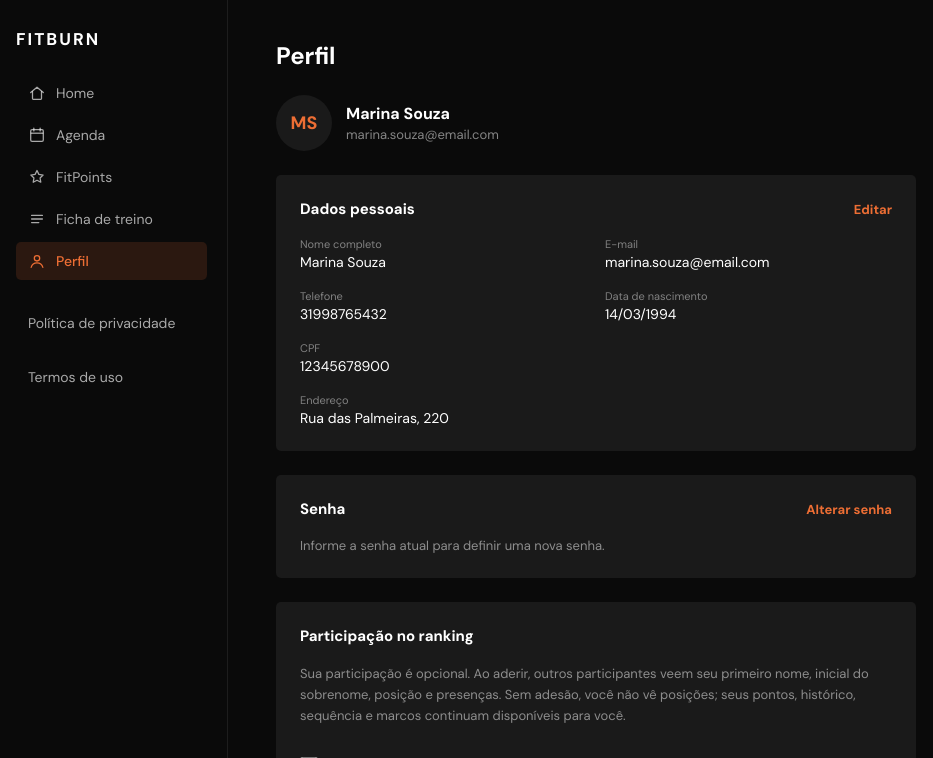
Test case: Perfil / Minha conta › cliente › cancelar descarta as alterações
Click the button "Editar" at [873, 209], box 854,200 -> 892,218
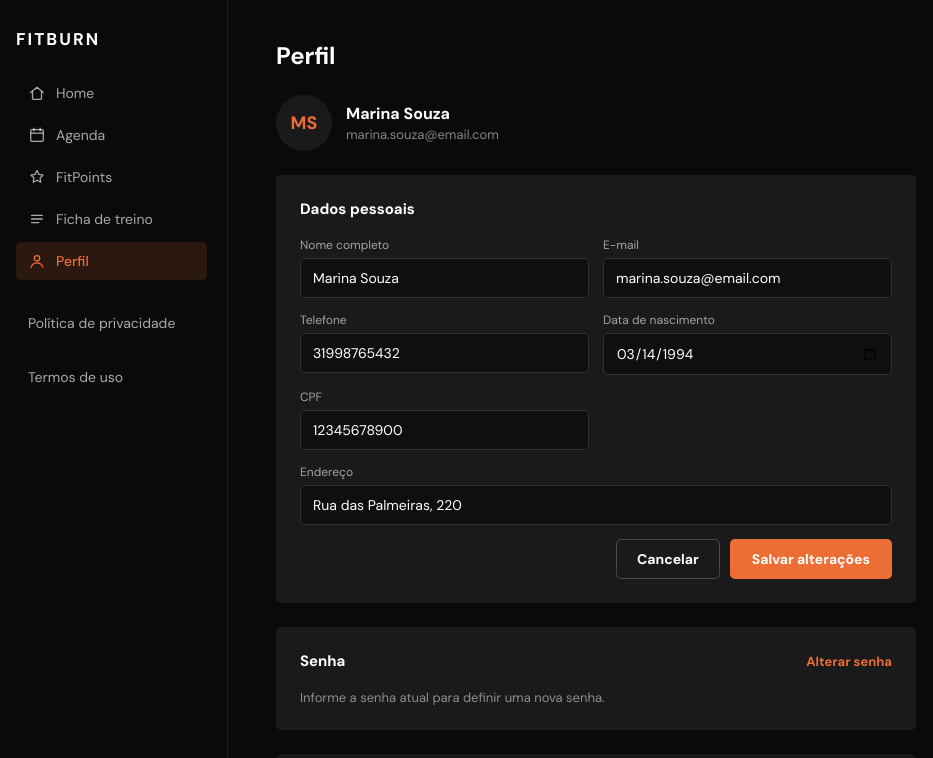
Replace the text in the field labelled "Nome completo" with "Outro Nome" at [444, 278], box 300,258 -> 589,298
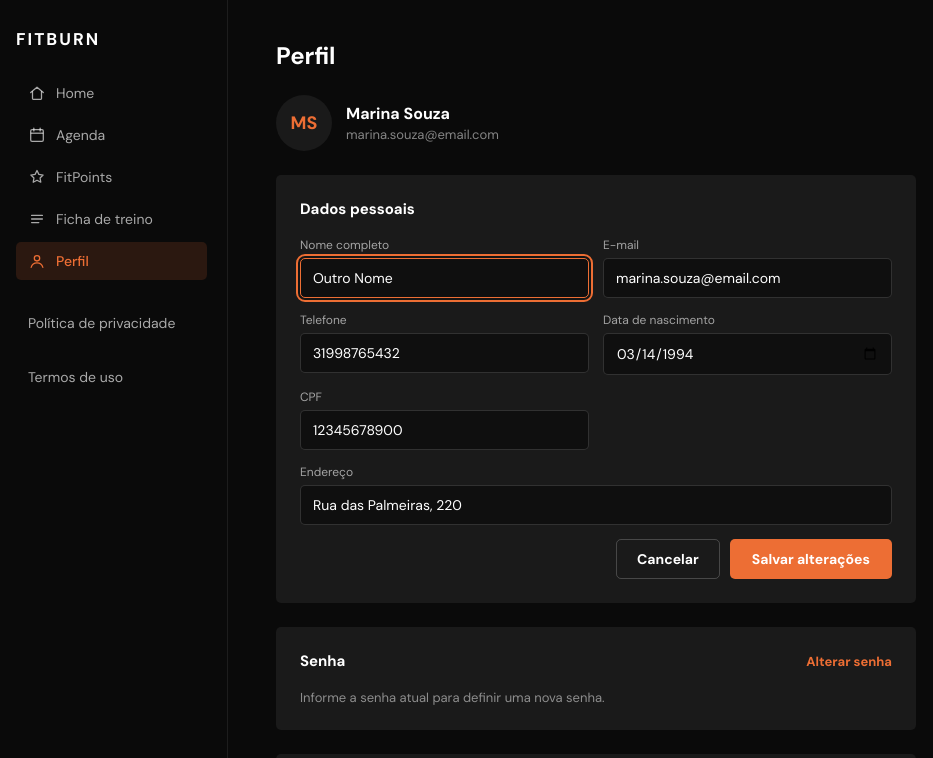
Click the button "Cancelar" at [668, 559], box 616,539 -> 720,579
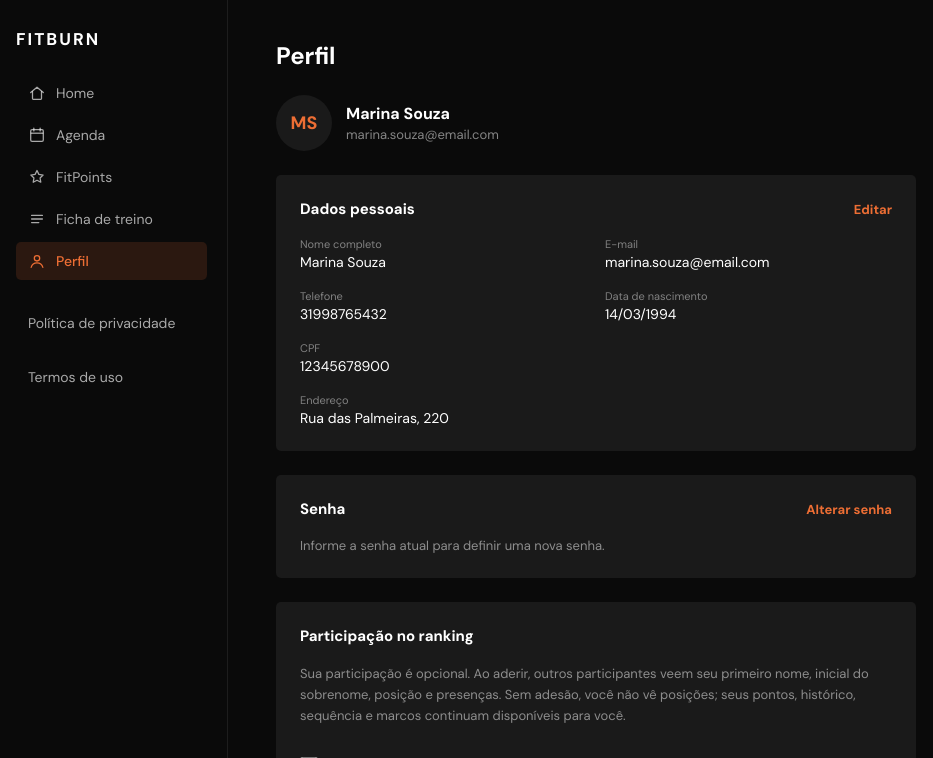
Expected: the text "Marina Souza" below "Nome completo" is shown, 300,253 -> 386,271
